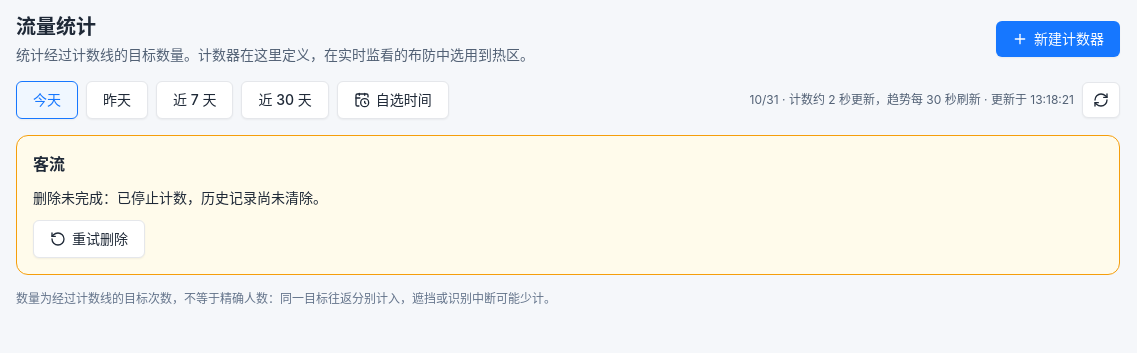
Test: 删除未完成的计数器只显示重试，不再显示统计
expect the element "客流" shows "删除未完成": met, box x1=33 y1=189 x2=327 y2=206
Click the button "重试删除" at {"x": 89, "y": 239}, box x1=33 y1=220 x2=145 y2=258
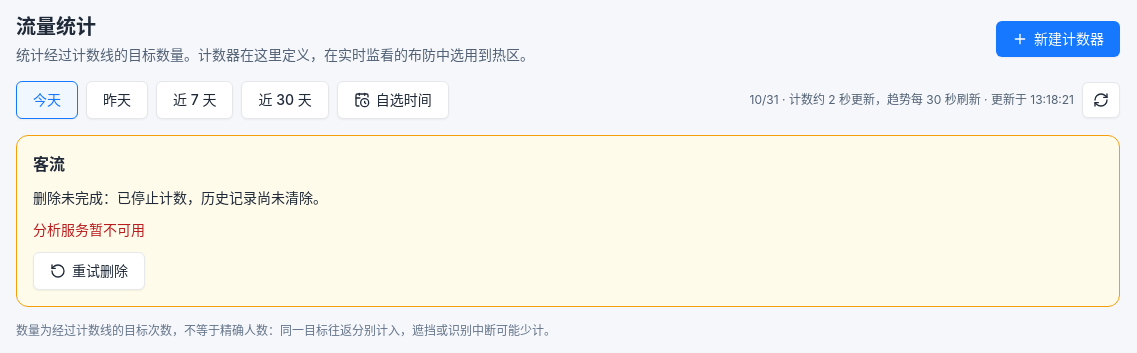
expect the text "分析服务暂不可用" is shown: met, box x1=33 y1=221 x2=145 y2=238
